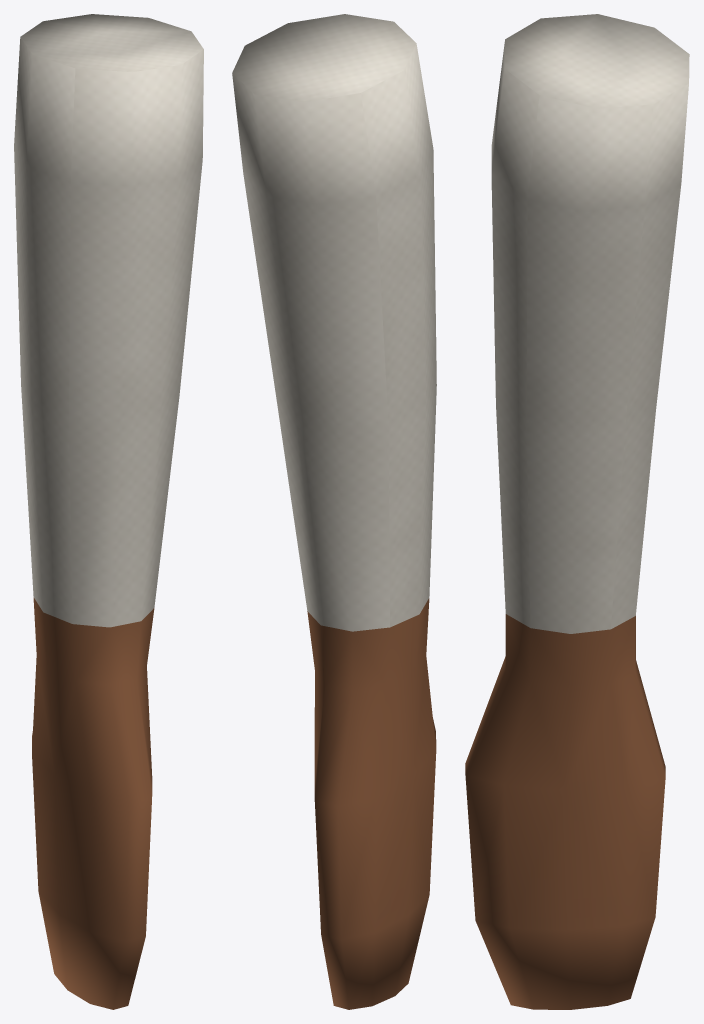
File: antebrazoder.obj
3 views of the same model, side by side, from view 1: azimuth 30°, elevation 25°; view 2: azimuth 150°, elevation 25°; view 3: azimuth 270°, elevation 25° (orthographic). The views are drawn at different scales.
Parts seen in each view (by area): view 1: AntebrazoDer; view 2: AntebrazoDer; view 3: AntebrazoDer.
Part boxes in pixels (bbox=[...]): AntebrazoDer: bbox=[14, 14, 203, 1009]; AntebrazoDer: bbox=[232, 14, 436, 1009]; AntebrazoDer: bbox=[465, 14, 689, 1009].
Size of the model in its own units: 0.0507 by 0.2679 by 0.0562.
Materials: 2 (2 with a texture image).
